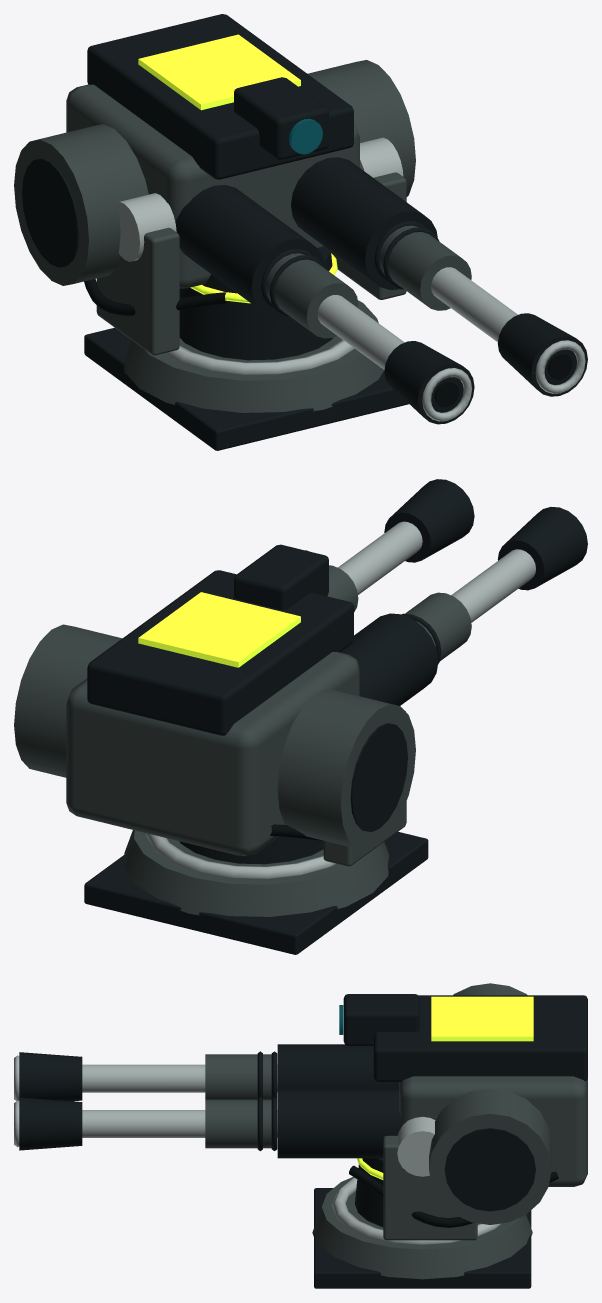
The model's file is twin-repeater-lod1.glb.
The picture shows the model from 3 angles, top to bottom: view 1: azimuth 30°, elevation 25°; view 2: azimuth 150°, elevation 25°; view 3: azimuth 270°, elevation 25°; orthographic projection. The views are drawn at different scales.
Parts seen in each view (by area): view 1: receivers__Recessed_carbon_mechanism, ammunition-drums__Cerakote_graphite_armor, receiver__Recessed_carbon_mechanism, mount__Cerakote_graphite_armor, receiver__Cerakote_graphite_armor, cradle__Cerakote_graphite_armor, mount__Recessed_carbon_mechanism, thermal-sleeves__Cerakote_graphite_armor, muzzle-brakes__Recessed_carbon_mechanism, yaw-drive__Recessed_carbon_mechanism, identification__Velocity_chartreuse_identification, twin-barrels__Machined_titanium (+9 smaller); view 2: receiver__Cerakote_graphite_armor, ammunition-drums__Cerakote_graphite_armor, receiver__Recessed_carbon_mechanism, mount__Cerakote_graphite_armor, mount__Recessed_carbon_mechanism, muzzle-brakes__Recessed_carbon_mechanism, identification__Velocity_chartreuse_identification, receivers__Recessed_carbon_mechanism, twin-barrels__Machined_titanium, ammunition-drums__Recessed_carbon_mechanism, sensor__Recessed_carbon_mechanism, thermal-sleeves__Cerakote_graphite_armor (+3 smaller); view 3: receivers__Recessed_carbon_mechanism, receiver__Recessed_carbon_mechanism, ammunition-drums__Cerakote_graphite_armor, receiver__Cerakote_graphite_armor, mount__Cerakote_graphite_armor, twin-barrels__Machined_titanium, muzzle-brakes__Recessed_carbon_mechanism, ammunition-drums__Recessed_carbon_mechanism, thermal-sleeves__Cerakote_graphite_armor, mount__Recessed_carbon_mechanism, cradle__Cerakote_graphite_armor, identification__Velocity_chartreuse_identification (+7 smaller).
Part boxes in pixels (x1,y1,x2,y2): receivers__Recessed_carbon_mechanism: (175,157,437,317); ammunition-drums__Cerakote_graphite_armor: (14,60,415,285); receiver__Recessed_carbon_mechanism: (87,14,353,179); mount__Cerakote_graphite_armor: (123,300,384,412); receiver__Cerakote_graphite_armor: (66,84,359,288); cradle__Cerakote_graphite_armor: (96,172,406,355); mount__Recessed_carbon_mechanism: (84,327,408,450); thermal-sleeves__Cerakote_graphite_armor: (266,225,471,338); muzzle-brakes__Recessed_carbon_mechanism: (384,313,587,424); yaw-drive__Recessed_carbon_mechanism: (179,246,332,360); identification__Velocity_chartreuse_identification: (138,34,300,110); twin-barrels__Machined_titanium: (317,267,517,369); receiver__Cerakote_graphite_armor: (66,652,359,855); ammunition-drums__Cerakote_graphite_armor: (14,624,415,850); receiver__Recessed_carbon_mechanism: (87,570,353,735); mount__Cerakote_graphite_armor: (123,830,388,916); mount__Recessed_carbon_mechanism: (84,831,428,954); muzzle-brakes__Recessed_carbon_mechanism: (384,479,587,590); identification__Velocity_chartreuse_identification: (138,592,300,667); receivers__Recessed_carbon_mechanism: (340,613,438,705); twin-barrels__Machined_titanium: (338,521,535,622); ammunition-drums__Recessed_carbon_mechanism: (350,723,407,832); sensor__Recessed_carbon_mechanism: (234,544,328,609); thermal-sleeves__Cerakote_graphite_armor: (327,565,471,660); receivers__Recessed_carbon_mechanism: (277,1044,402,1158); receiver__Recessed_carbon_mechanism: (373,995,587,1081); ammunition-drums__Cerakote_graphite_armor: (429,983,551,1224); receiver__Cerakote_graphite_armor: (399,1076,587,1186); mount__Cerakote_graphite_armor: (312,1177,532,1279); twin-barrels__Machined_titanium: (82,1064,277,1137); muzzle-brakes__Recessed_carbon_mechanism: (19,1052,82,1150); ammunition-drums__Recessed_carbon_mechanism: (444,1128,535,1211); thermal-sleeves__Cerakote_graphite_armor: (205,1054,271,1148); mount__Recessed_carbon_mechanism: (314,1188,531,1288); cradle__Cerakote_graphite_armor: (383,1135,477,1240); identification__Velocity_chartreuse_identification: (431,996,533,1041).
Bounding box in the file's own units: 1.98 × 1.71 × 3.64.
